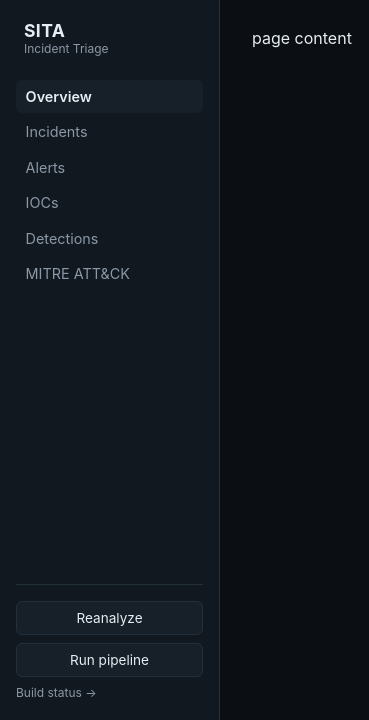
Layout — admin-only action buttons › Run pipeline schedules a job, polls it, and shows the resulting summary
Step 1. Click the button "Run pipeline" → (110, 660), box [16, 643, 203, 677]
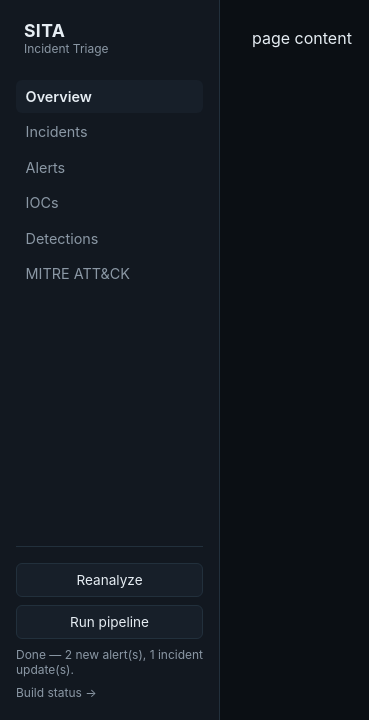
Expected: the text "Done — 2 new alert(s), 1 incident update(s)." is shown, [16, 647, 203, 677]
